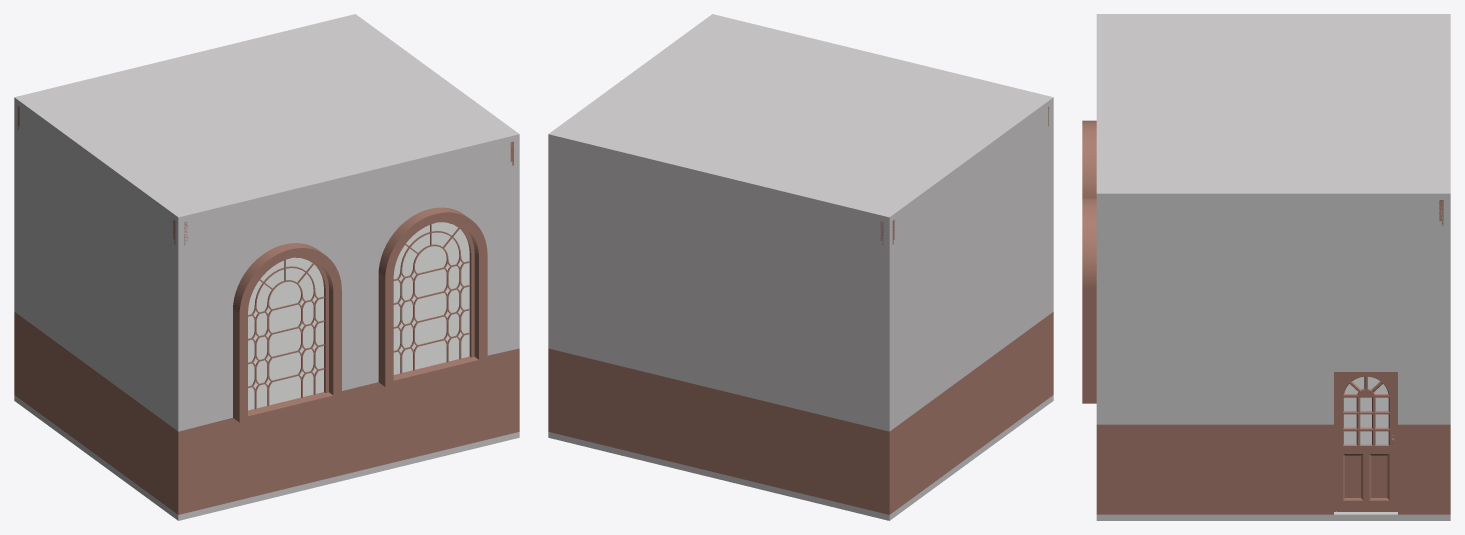
File: 897_room.glb
3 renders of one model, left to right at view 1: azimuth 30°, elevation 25°; view 2: azimuth 150°, elevation 25°; view 3: azimuth 270°, elevation 25°, orthographic. The views are drawn at different scales.
Parts seen in each view (by area): view 1: wall3, top, wall4, bottom, wall1, wall2; view 2: wall1, top, wall4, bottom, wall2; view 3: wall2, top, door1, wall3, bottom, wall1.
Part boxes in pixels (x1,y1,x2,y2): wall3: (173,142,519,514); top: (14,14,519,223); wall4: (14,107,187,511); bottom: (14,395,519,520); wall1: (14,103,19,397); wall2: (510,140,519,433); wall1: (548,140,894,514); top: (548,14,1053,223); wall4: (880,103,1053,511); bottom: (548,395,1053,520); wall2: (548,351,556,433); wall2: (1096,200,1450,514); top: (1096,14,1450,199); door1: (1336,372,1395,511); wall3: (1082,120,1096,403); bottom: (1096,511,1450,520); wall1: (1439,200,1450,455).
Bounding box in the file's own units: 6.01 × 5.1 × 5.2.
